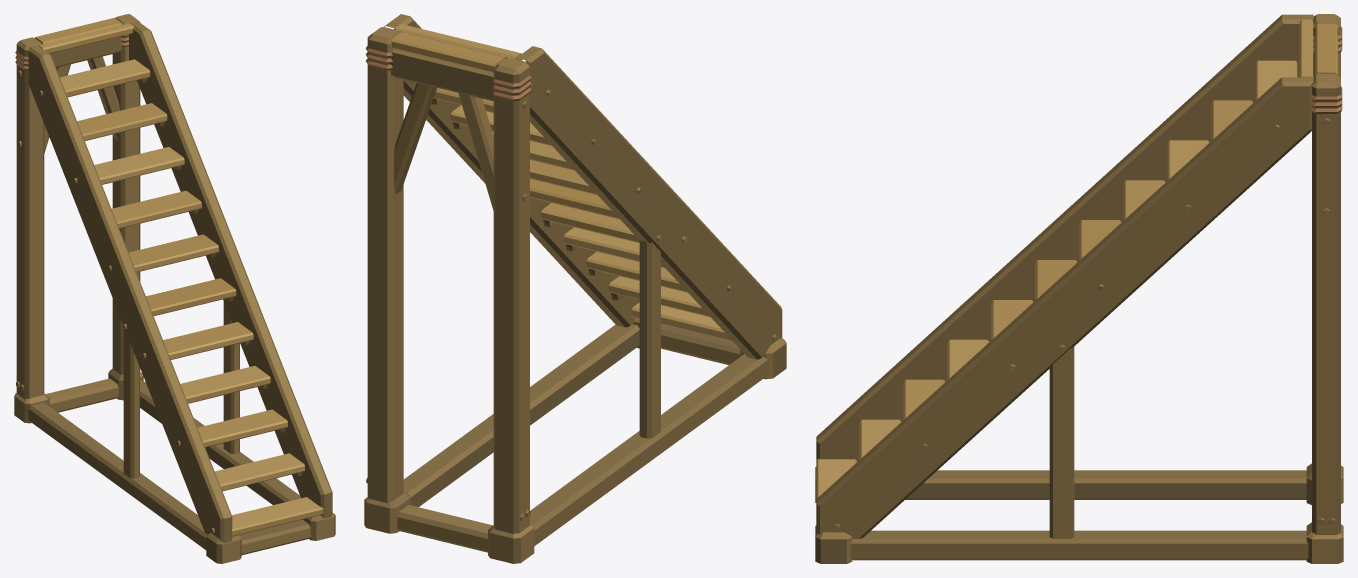
The model's file is bay-fitting-survival-stair-b08e0d.glb.
3 views of the same model, side by side, from view 1: azimuth 30°, elevation 25°; view 2: azimuth 150°, elevation 25°; view 3: azimuth 270°, elevation 25° (orthographic). The views are drawn at different scales.
Visible parts, largest first — view 1: stair; view 2: stair; view 3: stair.
Boxes of the visible parts, left/top/right/bottom form: stair: left=14, top=14, right=335, bottom=563; stair: left=364, top=14, right=786, bottom=563; stair: left=815, top=14, right=1343, bottom=563.
Bounding box in the file's own units: 1 × 3 × 3.
